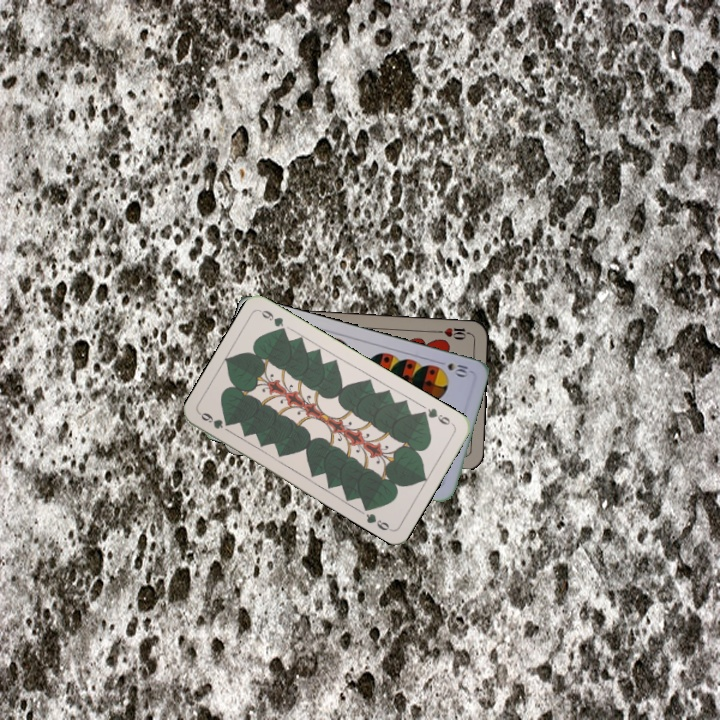G9: (416, 404, 456, 428), (196, 408, 232, 432)
H10: (433, 323, 474, 343)
S10: (433, 357, 473, 380)
